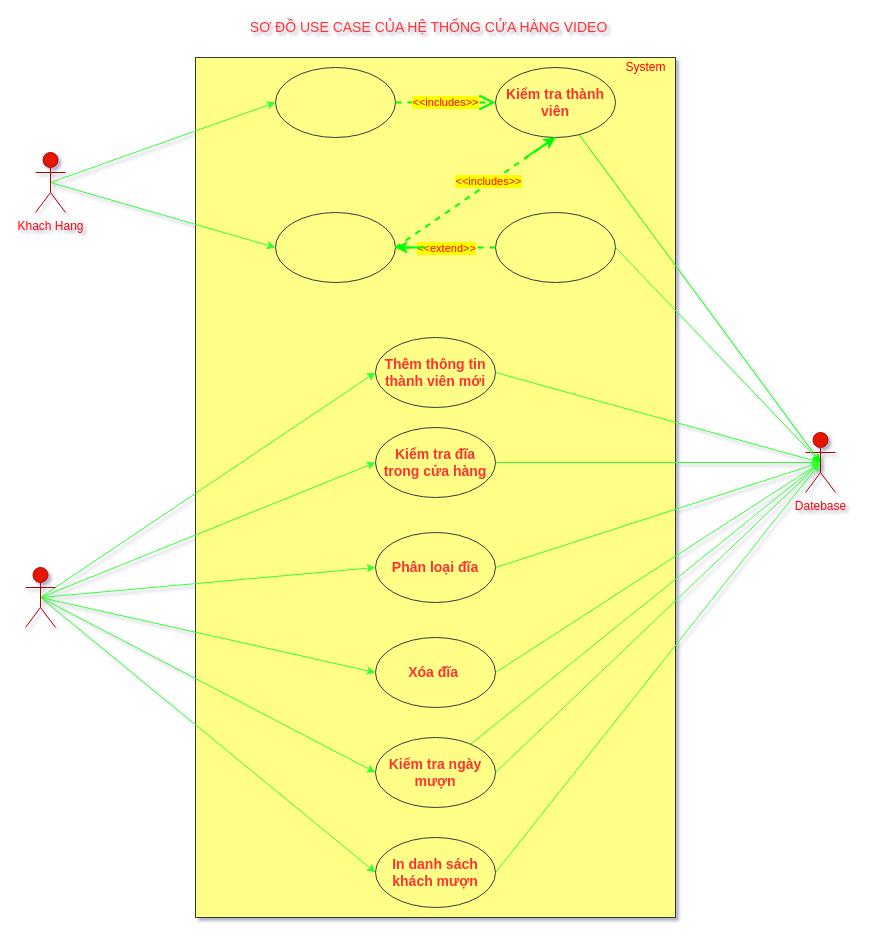
This 869x941 diagram has some shape labels left out. Each missing label, with the centre of its shape:
"Mượn ĐĨa" belongs at point (335, 102).
"Quan Li" belongs at point (40, 597).
"Trả Đĩa" belongs at point (335, 247).
"Đóng phạt" belongs at point (555, 247).
